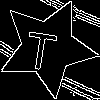T: (22, 22, 60, 72)
